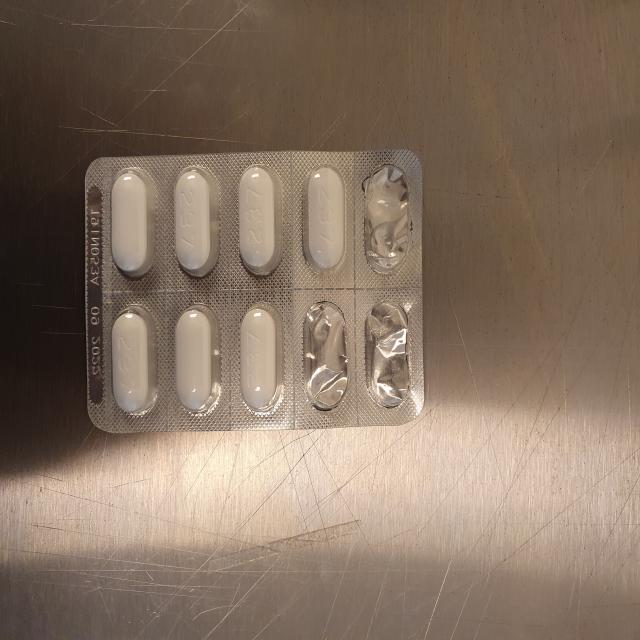Empty: (295, 294, 351, 411), (358, 160, 412, 277), (362, 294, 413, 415)
Pill: (165, 164, 225, 282), (103, 305, 164, 418), (234, 162, 288, 284), (102, 164, 158, 278), (296, 166, 352, 276), (230, 305, 284, 419), (170, 304, 220, 421)
